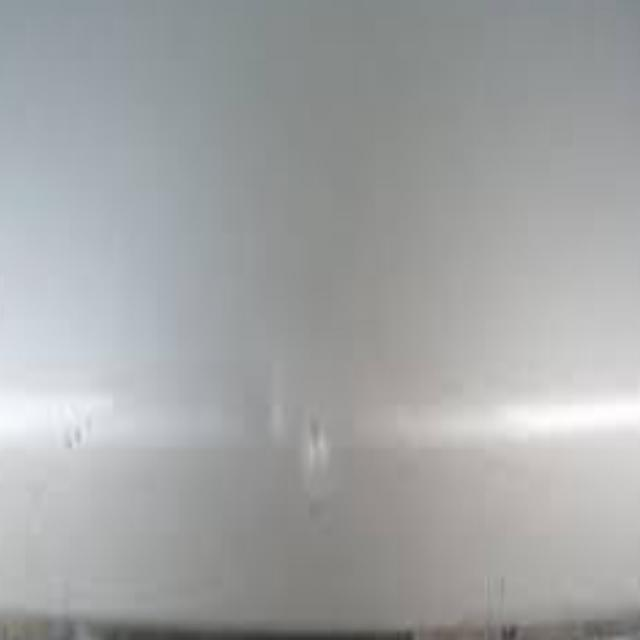dents: (299, 380, 337, 530), (58, 390, 101, 481)
